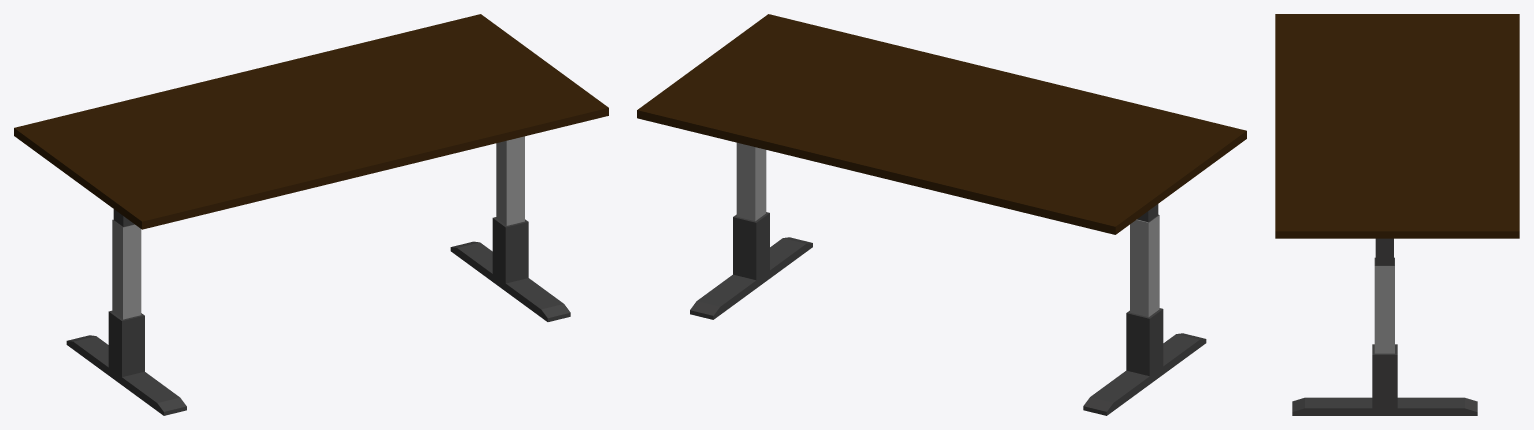
Rendered from ComputerDesk_01_snaps001.fbx.
3 views of the same model, side by side, from view 1: azimuth 30°, elevation 25°; view 2: azimuth 150°, elevation 25°; view 3: azimuth 270°, elevation 25° (orthographic). The views are drawn at different scales.
Visible parts, largest first — view 1: ComputerDesk_01_snaps001; view 2: ComputerDesk_01_snaps001; view 3: ComputerDesk_01_snaps001.
Part boxes in pixels (x1,y1,x2,y2): ComputerDesk_01_snaps001: (14,14,608,415); ComputerDesk_01_snaps001: (637,14,1246,415); ComputerDesk_01_snaps001: (1275,14,1519,415).
Bounding box in the file's own units: 191 × 81.25 × 90.62.
